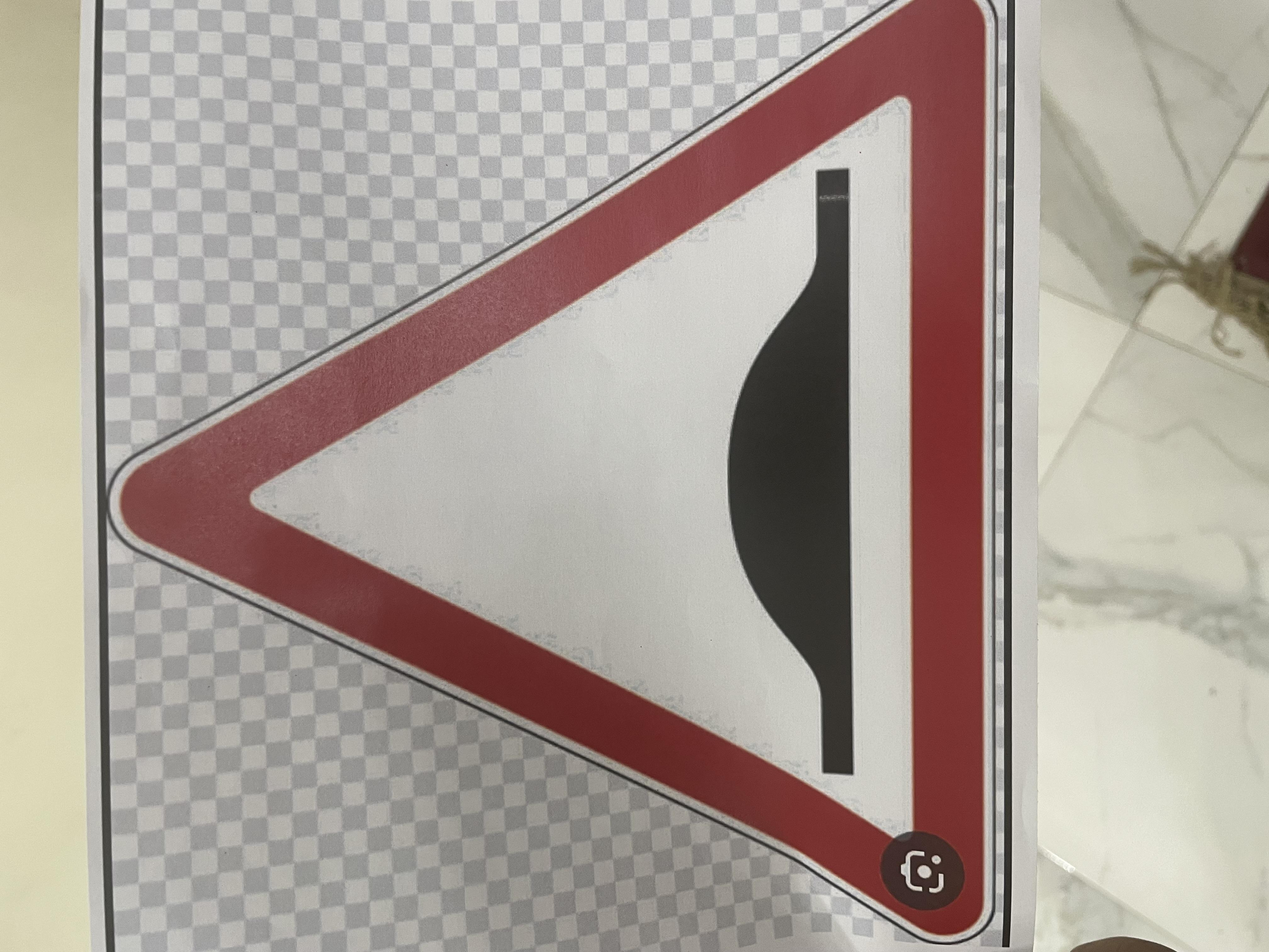Hump: (2, 77, 1265, 757)
